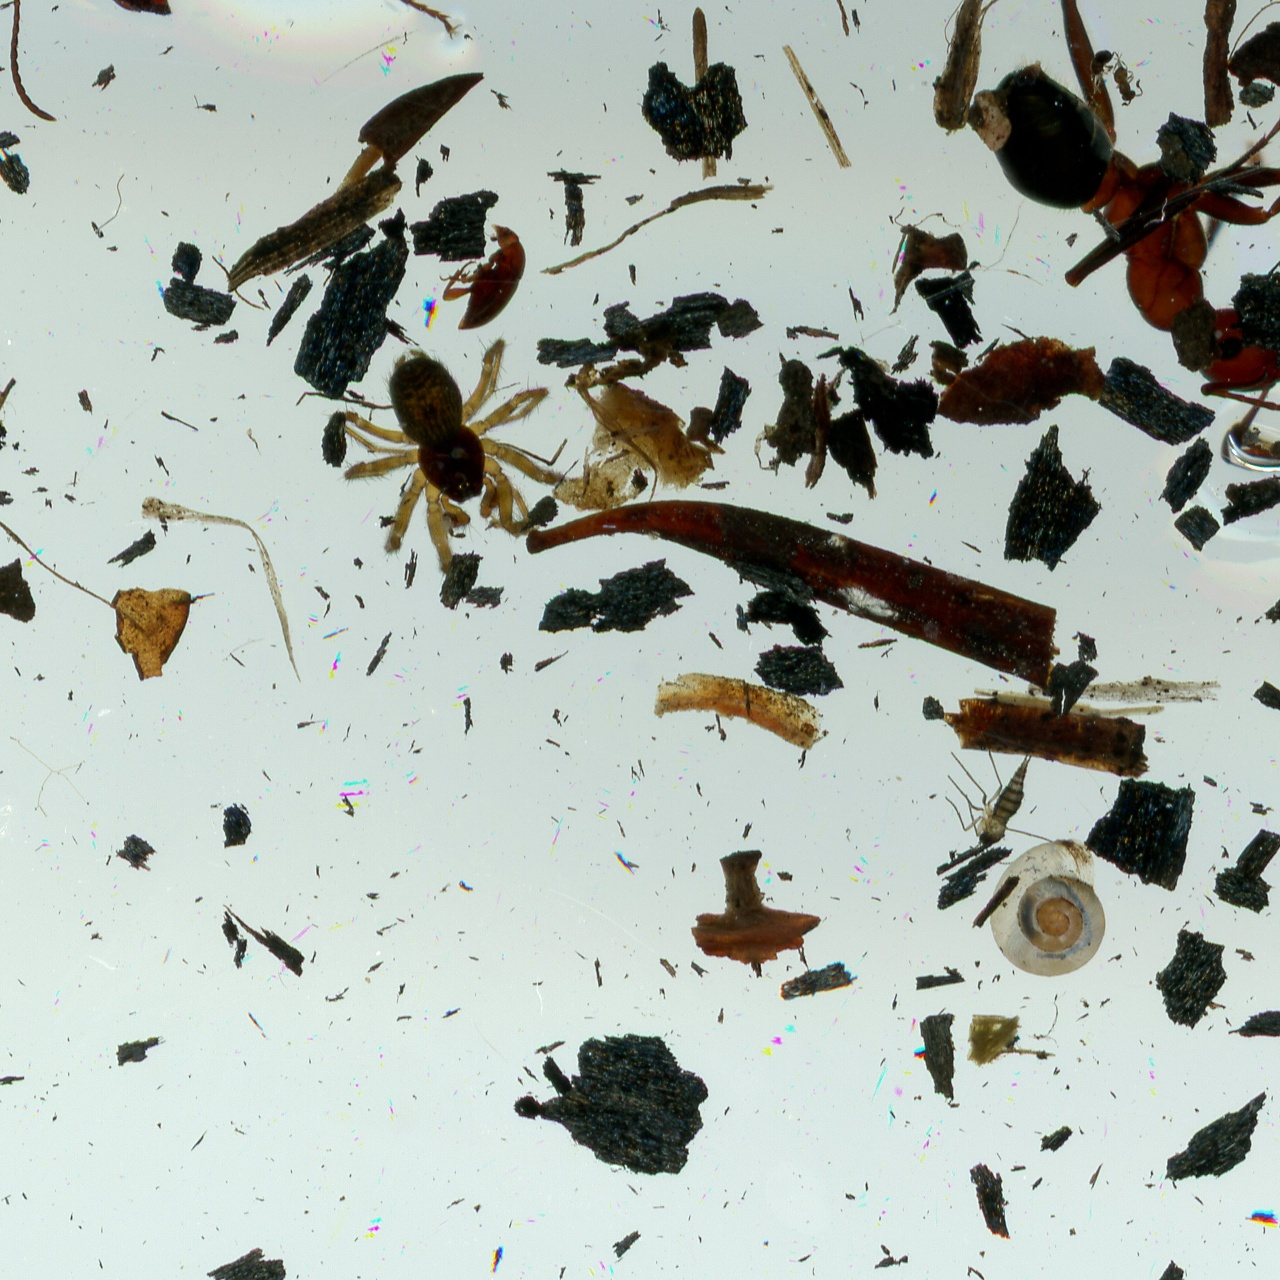arthropod: (969, 0, 1280, 468), (317, 327, 577, 579), (3, 0, 471, 140), (925, 730, 1080, 880), (986, 835, 1111, 979), (423, 208, 539, 348), (1107, 50, 1147, 109)
